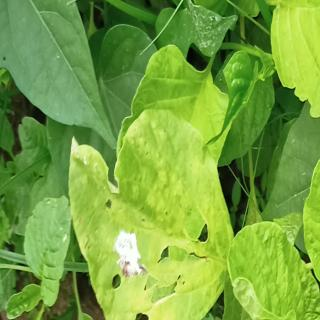karat_putih: (66, 109, 222, 318)
